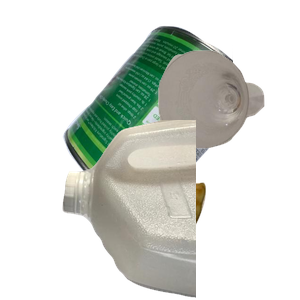glass: (156, 48, 300, 189)
metal: (60, 23, 300, 203)
plastic: (60, 120, 300, 300)
trash: (96, 145, 295, 300)
